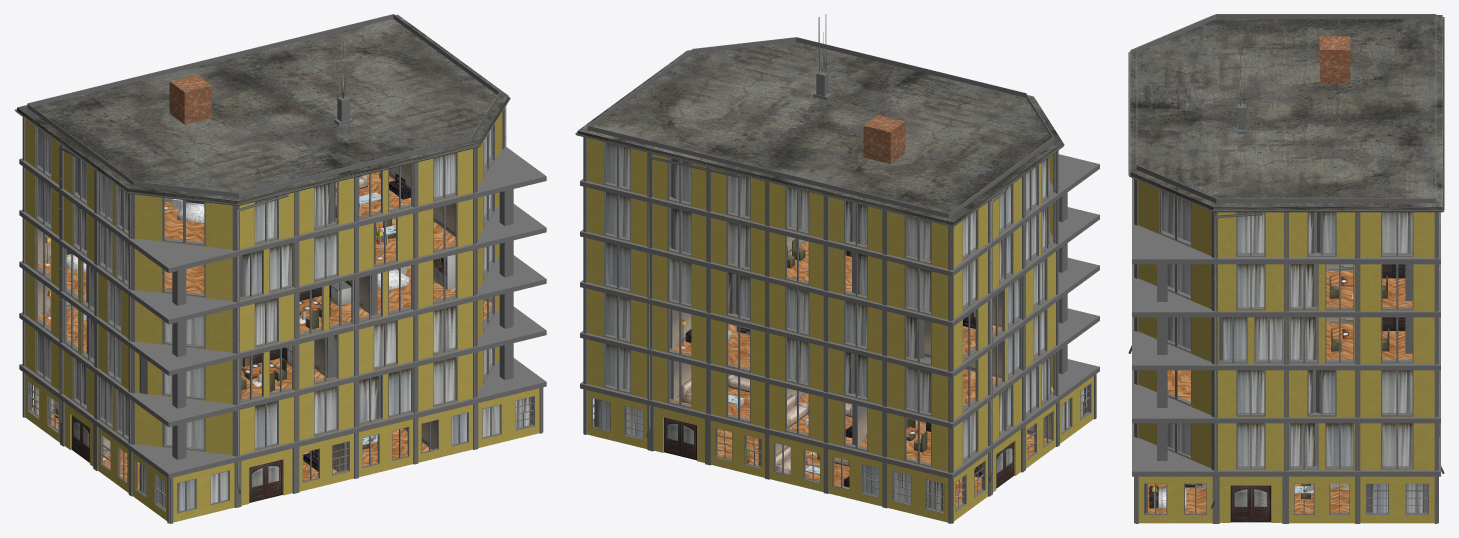
File: Building_6stores_Residential.obj
3 renders of one model, left to right at view 1: azimuth 30°, elevation 25°; view 2: azimuth 150°, elevation 25°; view 3: azimuth 270°, elevation 25°, orthographic. The views are drawn at different scales.
Visible parts, largest first — view 1: Building_6stores_Residential; view 2: Building_6stores_Residential; view 3: Building_6stores_Residential.
Part boxes in pixels (x1,y1,x2,y2): Building_6stores_Residential: (14,14,546,523); Building_6stores_Residential: (575,14,1099,523); Building_6stores_Residential: (1128,14,1444,523).
Bounding box in the file's own units: 8.47 × 8.27 × 5.85.
10 materials, 10 textured.
